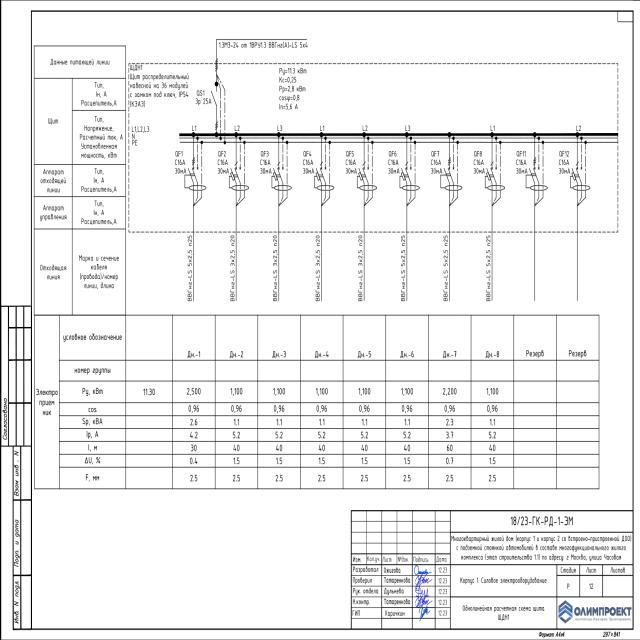-: (128, 72, 188, 108), (300, 158, 314, 175), (514, 158, 527, 176), (429, 158, 442, 176), (216, 158, 229, 176), (386, 158, 399, 176), (174, 158, 186, 176), (258, 158, 271, 174), (557, 160, 570, 176), (472, 159, 485, 175), (344, 158, 356, 174), (194, 97, 212, 107)
QFD: (524, 155, 548, 191), (182, 156, 206, 192), (438, 156, 462, 192), (568, 160, 591, 192), (483, 160, 506, 192), (355, 160, 378, 192), (311, 160, 334, 192), (227, 160, 250, 192), (398, 160, 420, 192), (270, 160, 292, 192)
QS: (209, 88, 217, 106)
